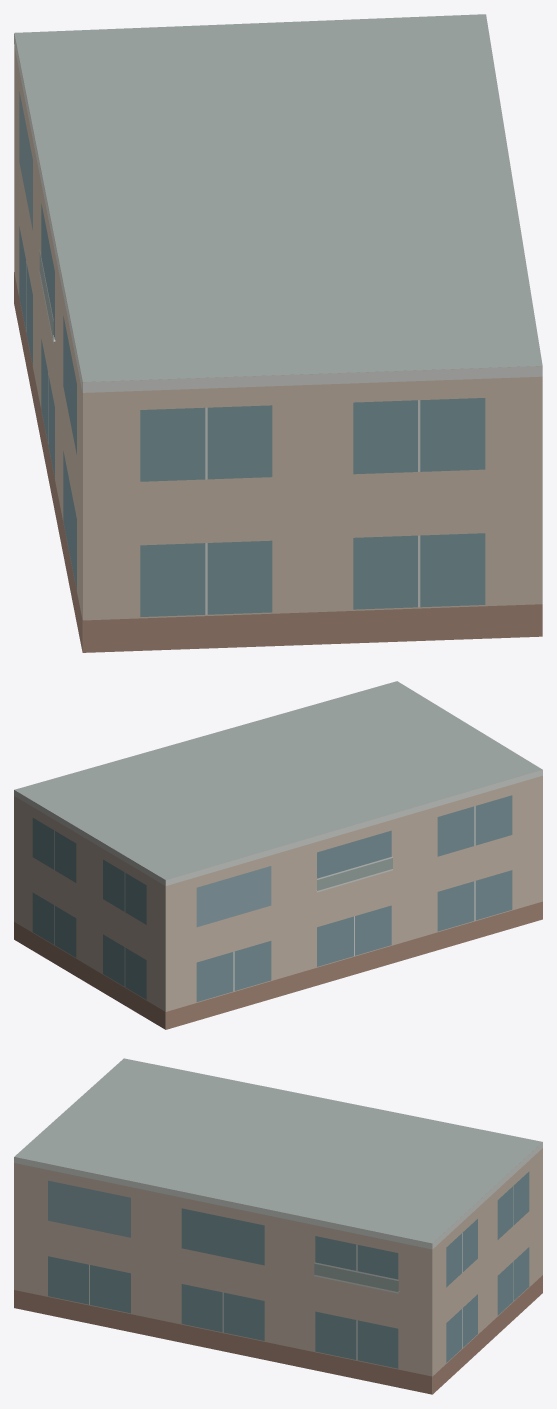
The model's file is survey-upis-32603140.glb.
3 views of the same model, one above another, from view 1: azimuth 30°, elevation 25°; view 2: azimuth 150°, elevation 25°; view 3: azimuth 270°, elevation 25° (orthographic). The views are drawn at different scales.
Visible parts, largest first — view 1: survey-upis-32603140.tmp; view 2: survey-upis-32603140.tmp; view 3: survey-upis-32603140.tmp.
Part boxes in pixels (bbox=[...]): survey-upis-32603140.tmp: bbox=[14, 14, 542, 652]; survey-upis-32603140.tmp: bbox=[14, 681, 542, 1029]; survey-upis-32603140.tmp: bbox=[14, 1058, 542, 1394].
Size of the model in its own units: 16.04 by 6.1 by 19.35.
